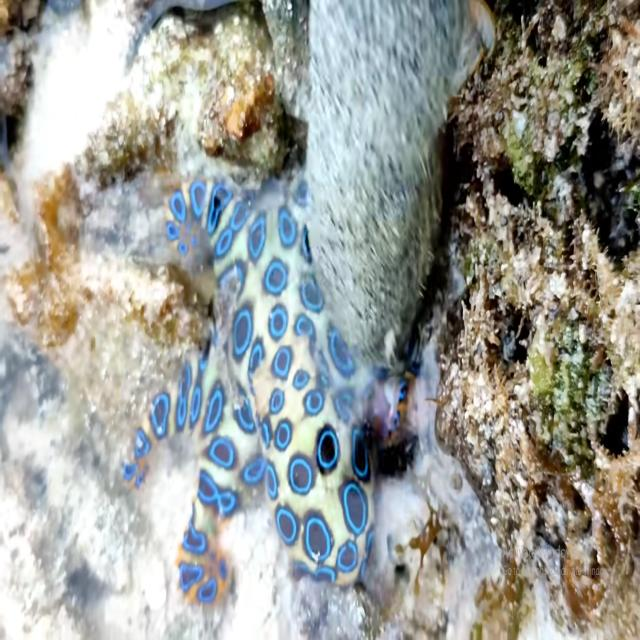blue_ringed_octopus: (116, 167, 422, 608)
